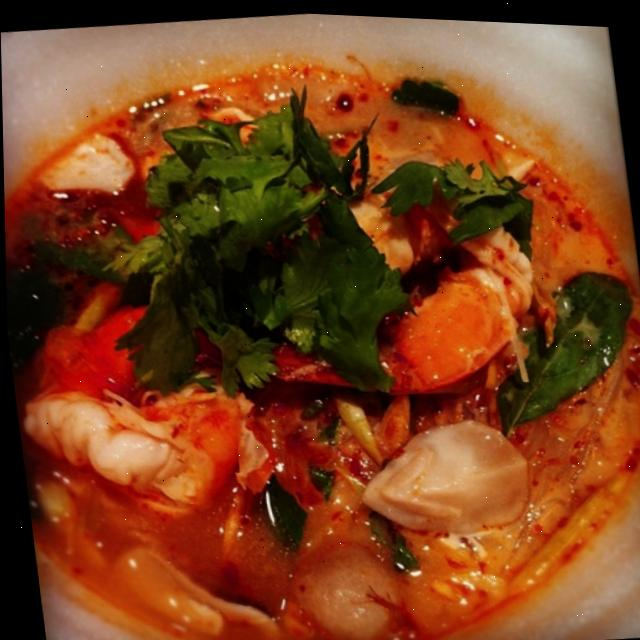汤锅炖物: (0, 7, 640, 640)
